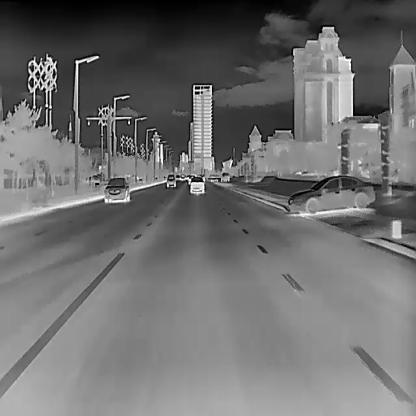car: (288, 174, 377, 214), (103, 177, 129, 203), (189, 176, 205, 194), (165, 173, 176, 187), (219, 171, 229, 183)
